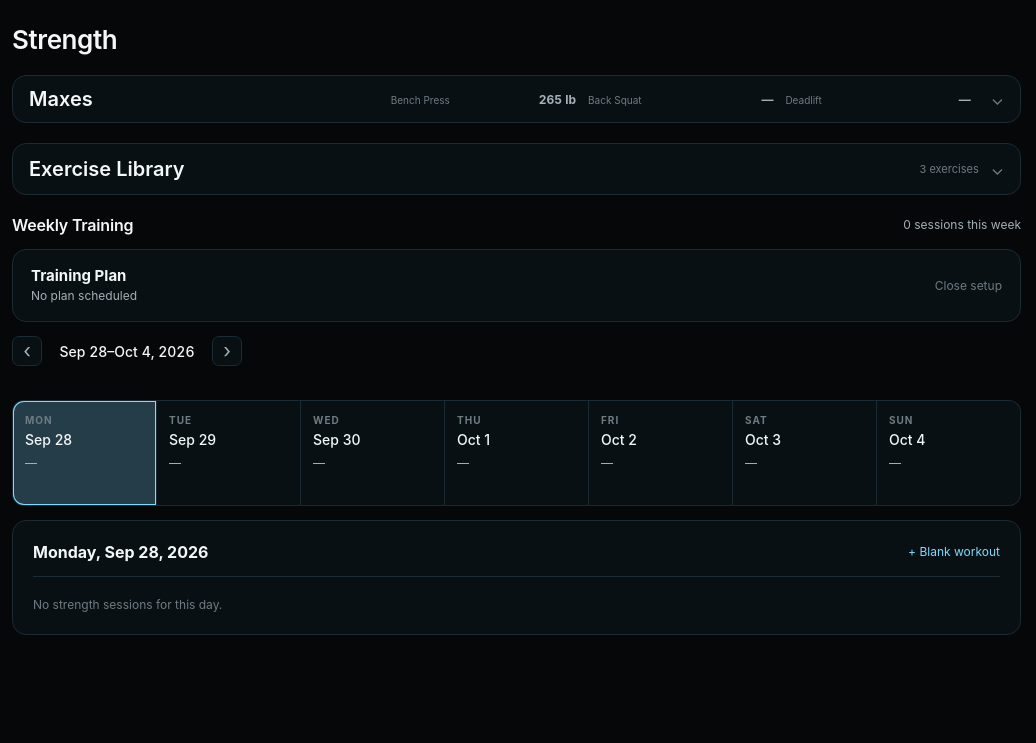
Scenario: StrengthPage › shows max save errors without replacing current data
This screenshot has width=1036, height=743.
Click the button "Maxes": [61, 99] box top-left (12, 75), bottom-right (1021, 123)
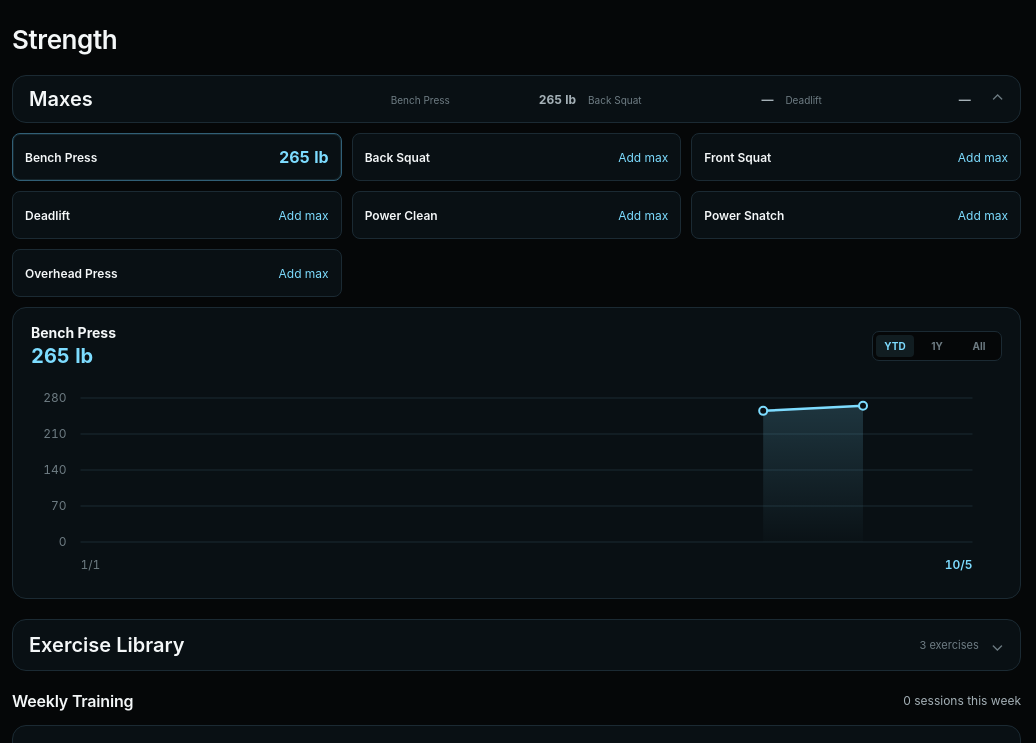
Click the button "265 lb": [304, 157] box top-left (279, 147), bottom-right (329, 167)
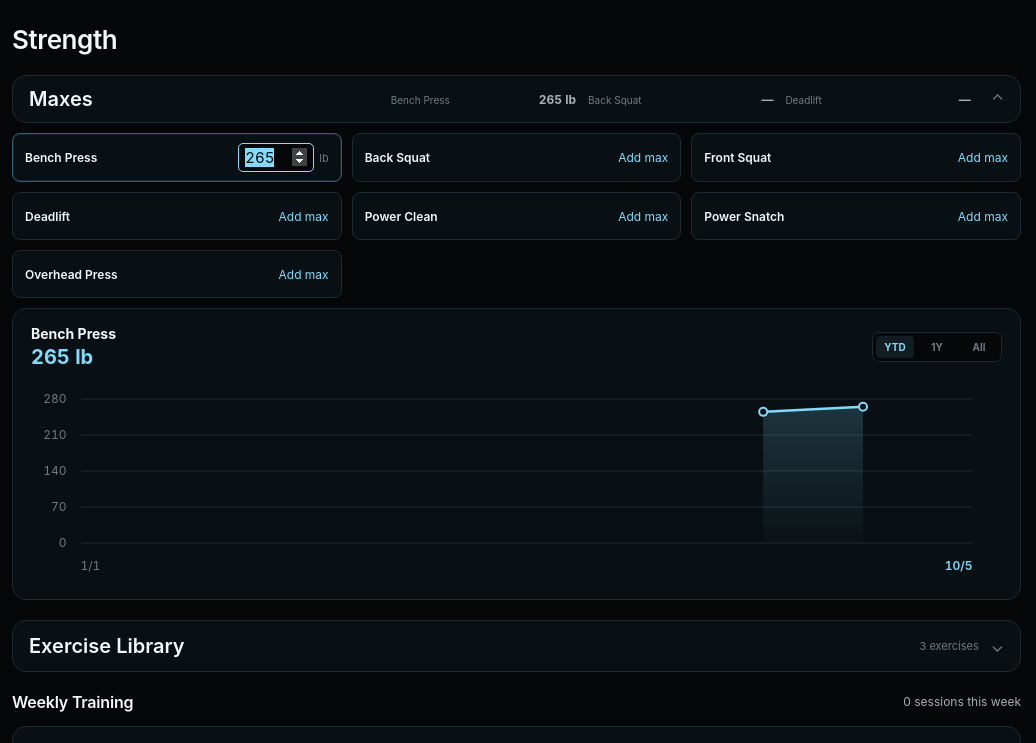
Replace the text in the number field named "Bench Press max" with "275": [276, 158] box top-left (238, 143), bottom-right (314, 172)
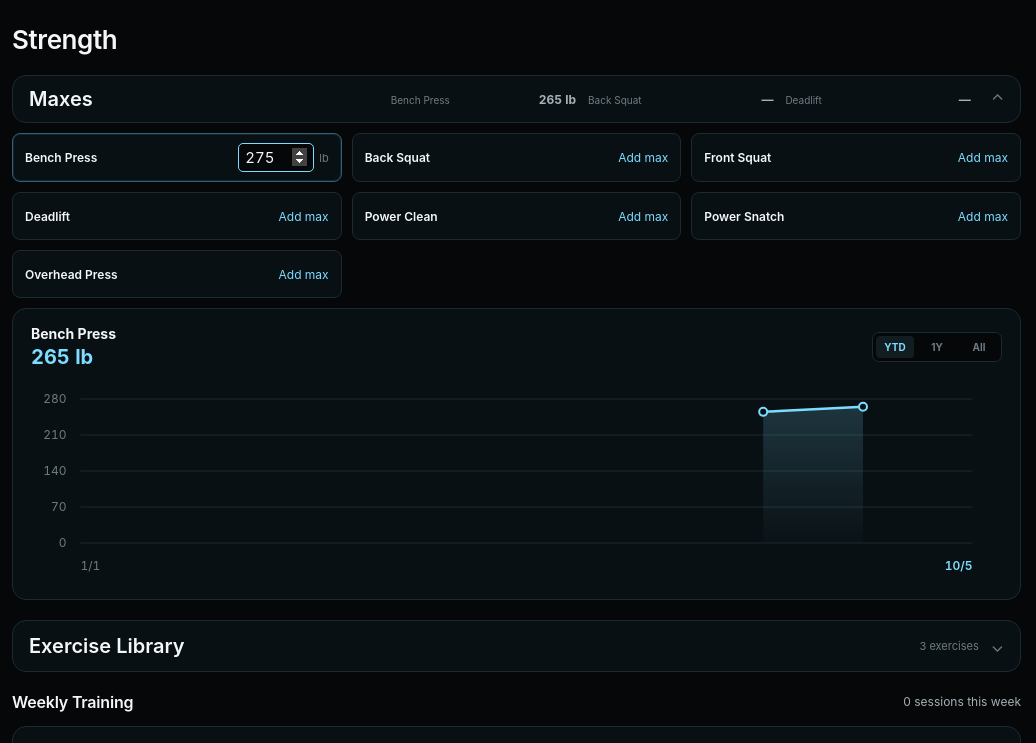
Leave the number field named "Bench Press max", box top-left (238, 143), bottom-right (314, 172)
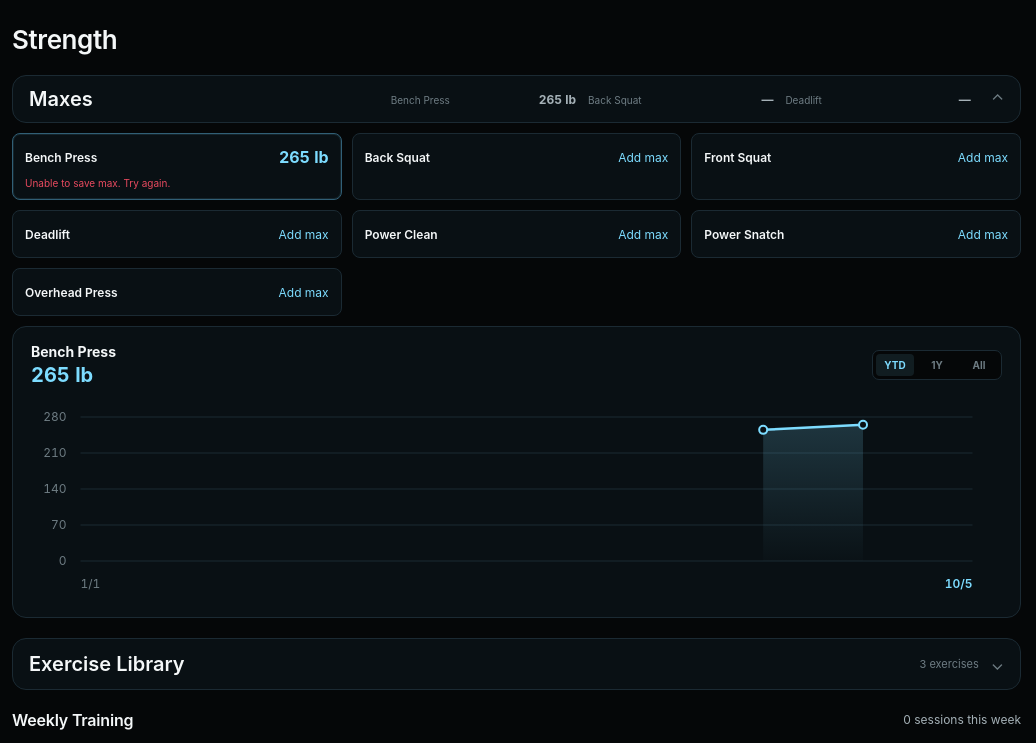
Check: the message shows "Unable to save max", box top-left (25, 177), bottom-right (170, 189)
Check: the button "265 lb" is shown, box top-left (279, 147), bottom-right (329, 167)
